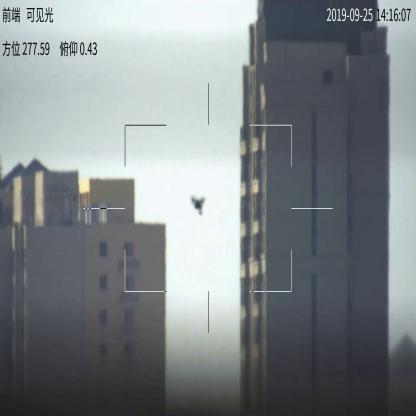uav: (190, 195, 206, 216)
